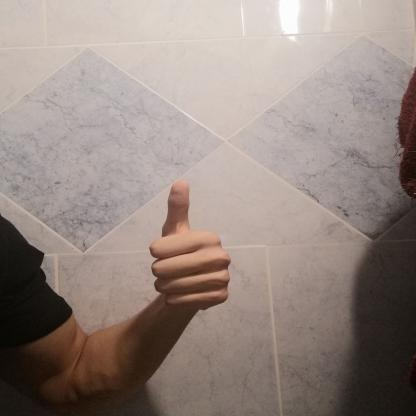ALIF: (136, 174, 247, 319)
